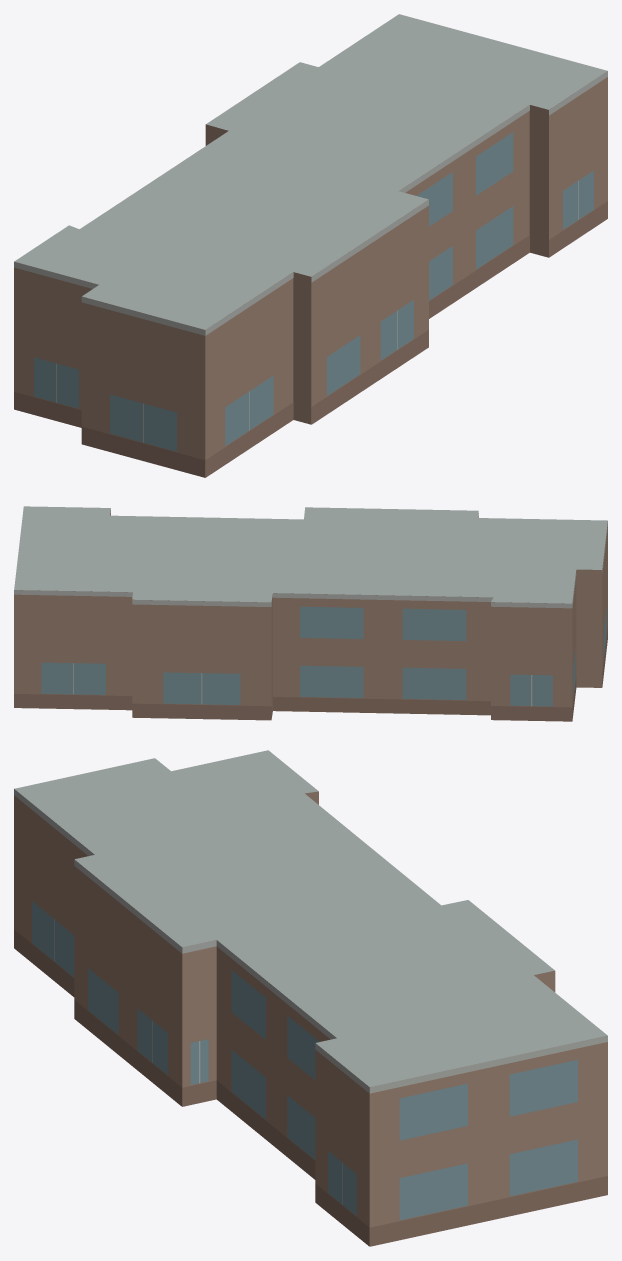
The model's file is survey-upis-32830248.glb.
3 views of the same model, one above another, from view 1: azimuth 30°, elevation 25°; view 2: azimuth 150°, elevation 25°; view 3: azimuth 270°, elevation 25° (orthographic). The views are drawn at different scales.
Parts seen in each view (by area): view 1: survey-upis-32830248.tmp; view 2: survey-upis-32830248.tmp; view 3: survey-upis-32830248.tmp.
Boxes of the visible parts, x1,y1,x2,y2 form: survey-upis-32830248.tmp: (14, 14, 607, 477); survey-upis-32830248.tmp: (14, 506, 607, 721); survey-upis-32830248.tmp: (14, 750, 607, 1246).
Size of the model in its own units: 27.67 by 6.1 by 20.59.
